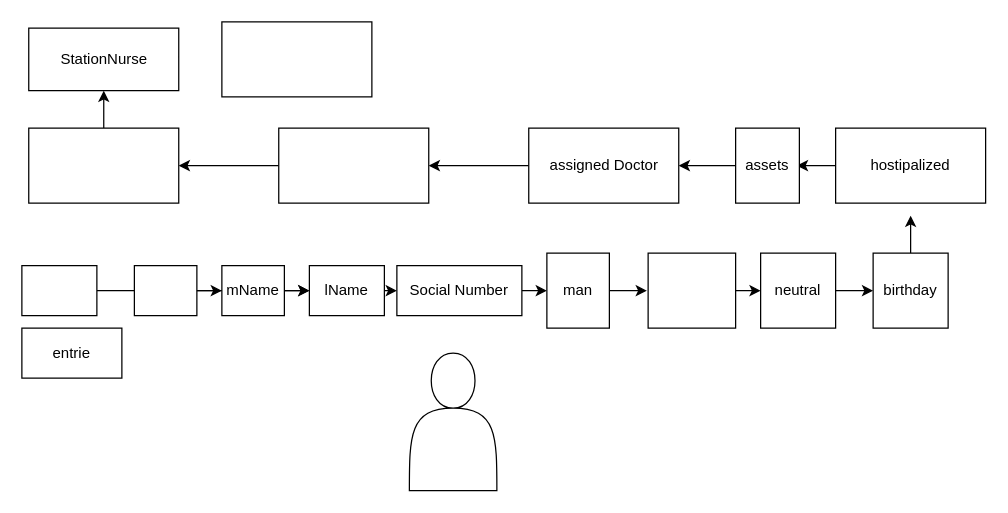
Image size: 1008x513. Some labels were removed from this diagram. Each missing label, with the centre of its shape:
fName: the point at 165,290
registration: the point at 59,290
Station: the point at 353,165
StationLevel: the point at 103,165
women: the point at 691,290
